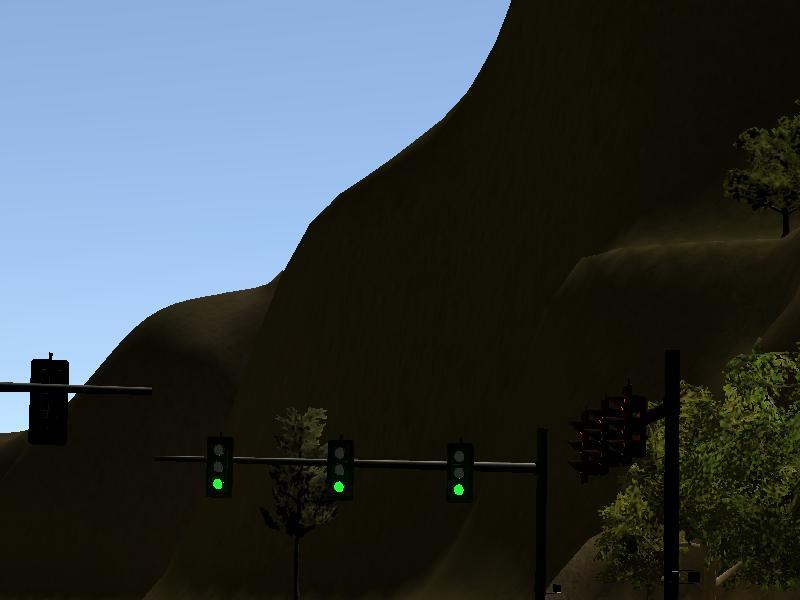Green: (446, 438, 472, 503), (329, 438, 351, 508), (206, 435, 230, 499)
